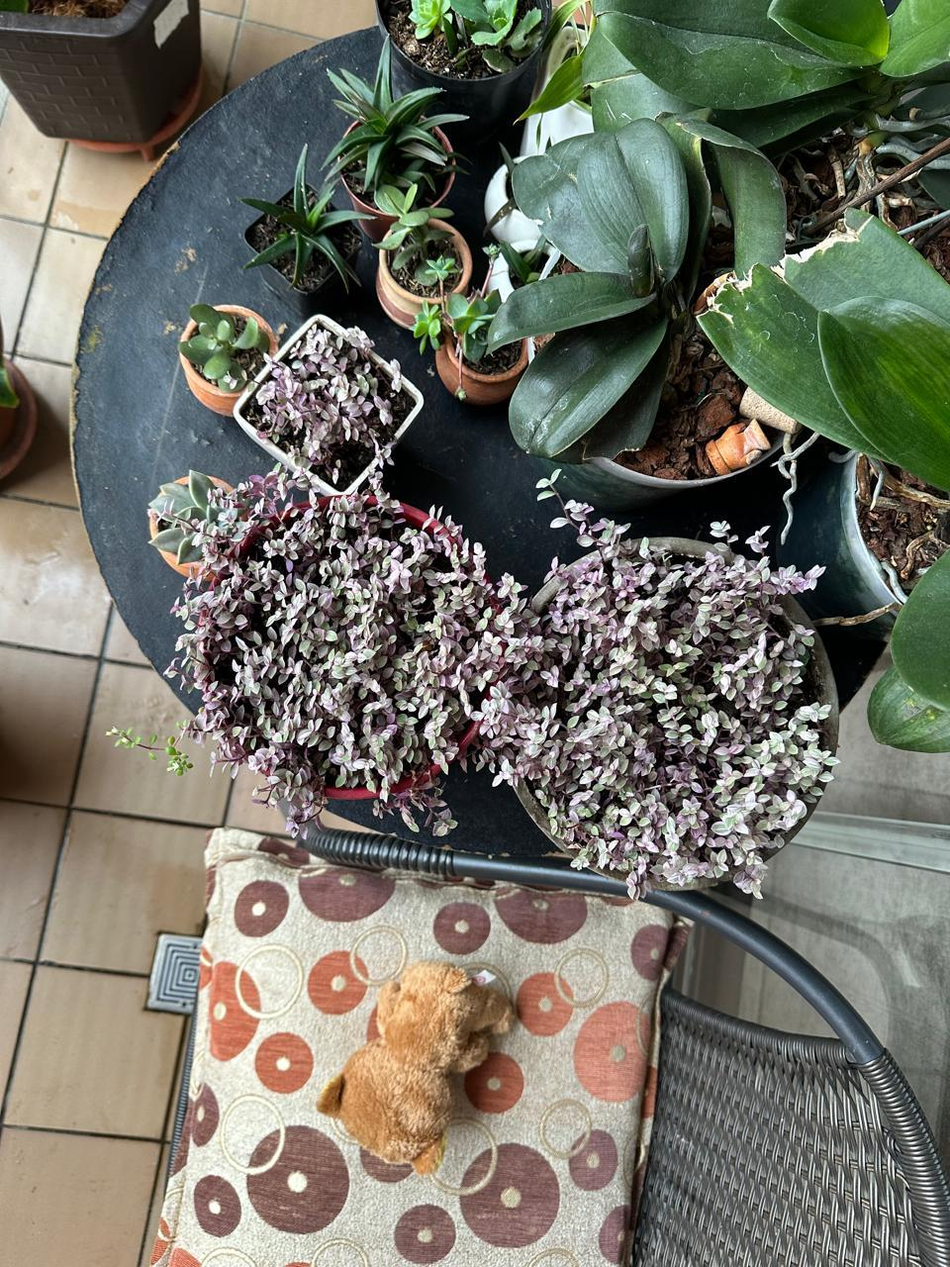peluche_sebastian: (336, 960, 512, 1178)
